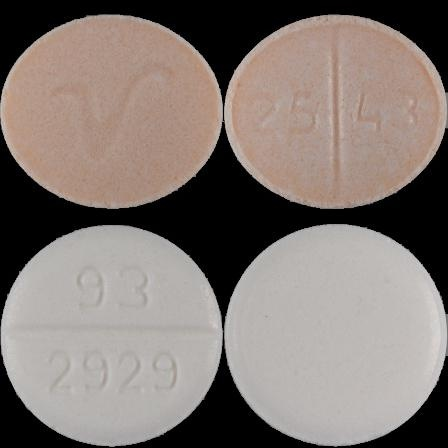53808-0828: (0, 0, 224, 224)
